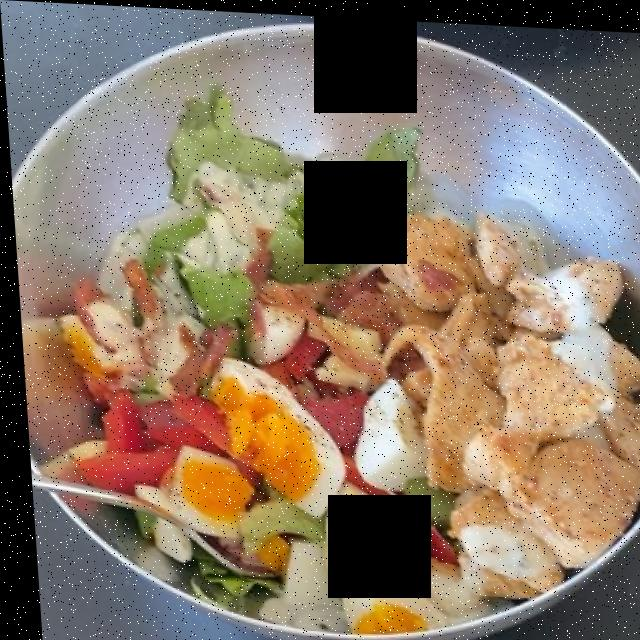egg: (162, 339, 465, 629)
tomato-raw: (77, 339, 389, 514)
